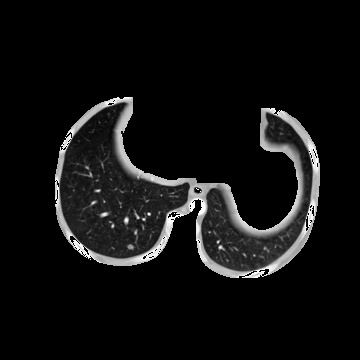PN: (127, 244, 133, 250)
